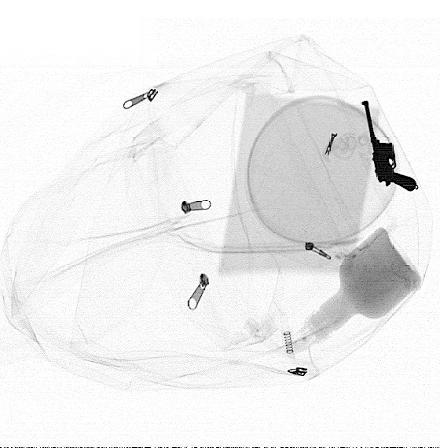Gun: (360, 100, 417, 193)
